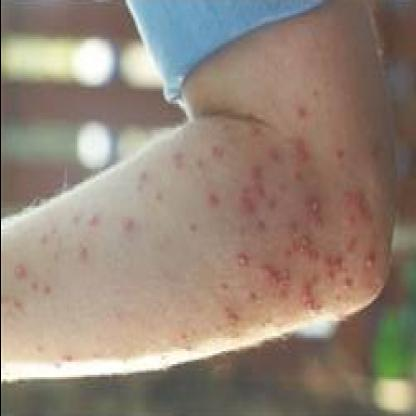Fire ant: (336, 26, 414, 271), (304, 3, 338, 122), (41, 90, 77, 161), (282, 228, 308, 297), (89, 60, 127, 101), (226, 270, 252, 322), (34, 184, 64, 221), (193, 22, 213, 68), (150, 68, 172, 108), (236, 75, 258, 113), (275, 176, 297, 214), (168, 2, 190, 39), (96, 120, 116, 158), (316, 188, 333, 232), (6, 214, 30, 244), (372, 2, 404, 24), (63, 315, 90, 341), (302, 135, 324, 165), (13, 150, 30, 188), (264, 34, 284, 64), (38, 292, 53, 318)
